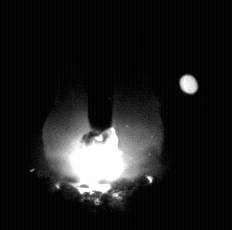arame: (88, 0, 114, 137)
poca: (42, 0, 165, 230)
